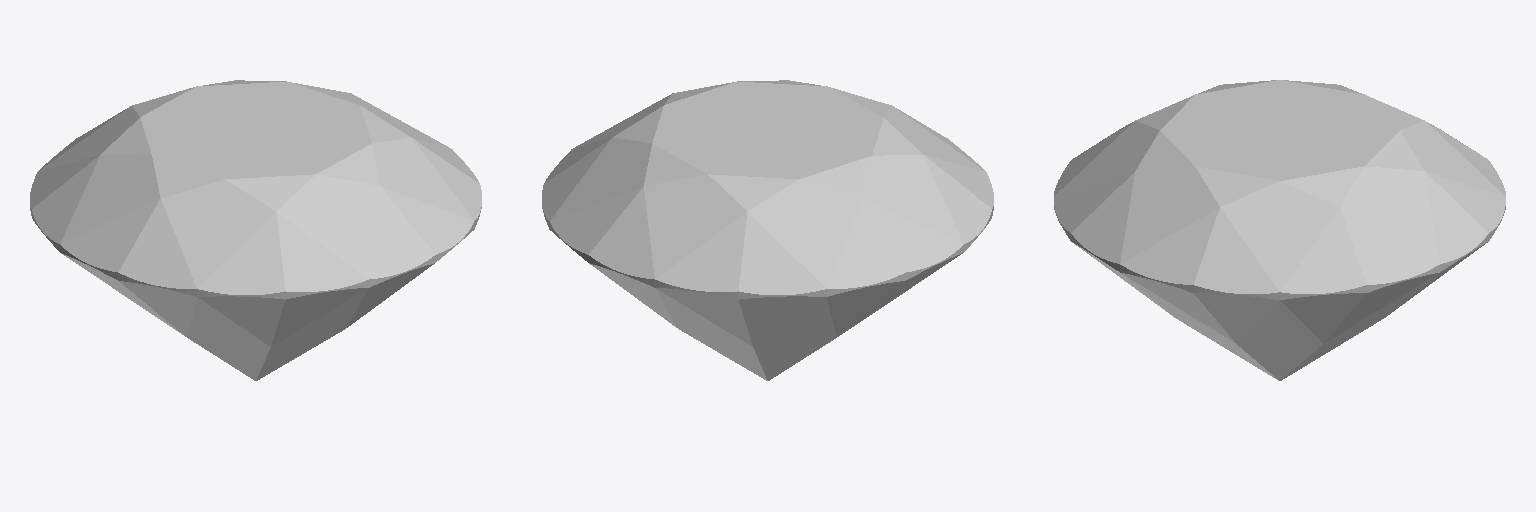
The model's file is diamond_cut.stl.obj.
3 views of the same model, side by side, from view 1: azimuth 30°, elevation 25°; view 2: azimuth 150°, elevation 25°; view 3: azimuth 270°, elevation 25° (orthographic).
Parts seen in each view (by area): view 1: <STL_BINARY>; view 2: <STL_BINARY>; view 3: <STL_BINARY>.
Boxes of the visible parts, x1,y1,x2,y2 form: <STL_BINARY>: [30, 80, 481, 380]; <STL_BINARY>: [542, 80, 993, 380]; <STL_BINARY>: [1054, 80, 1505, 380].
Size of the model in its own units: 10 by 6.12 by 10.